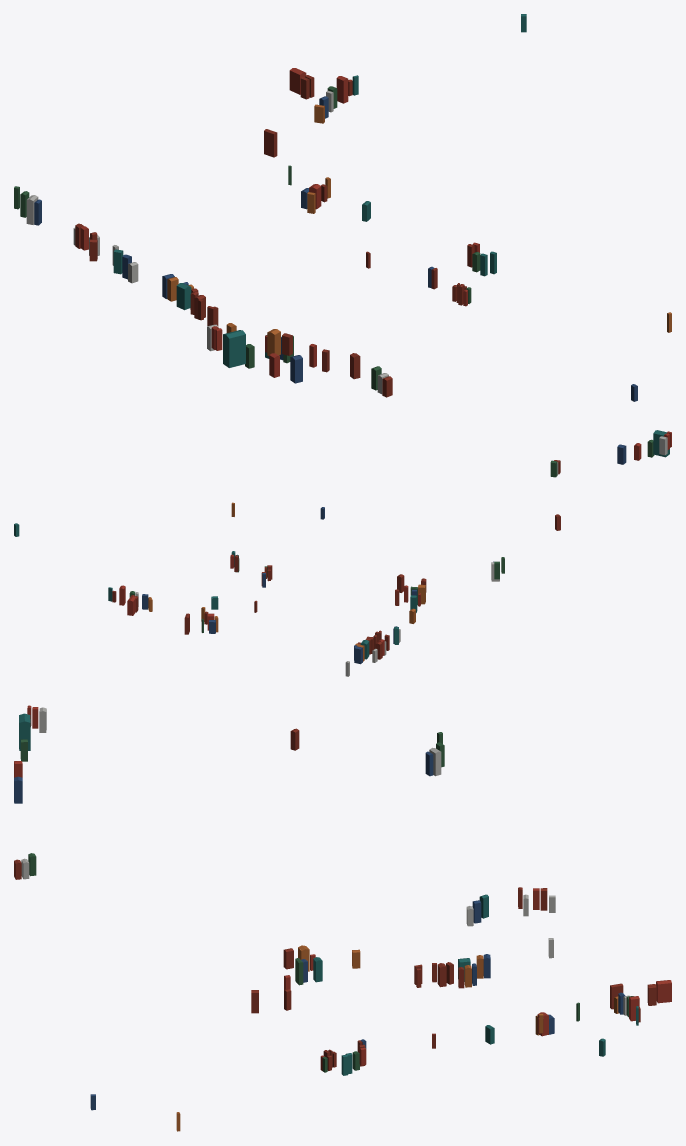
The model's file is near-16-54737-29742.96c4c514.glb.
3 views of the same model, one above another, from view 1: azimuth 30°, elevation 25°; view 2: azimuth 150°, elevation 25°; view 3: azimuth 270°, elevation 25° (orthographic). The views are drawn at different scales.
Bounding box in the file's own units: 557 × 179 × 546.
